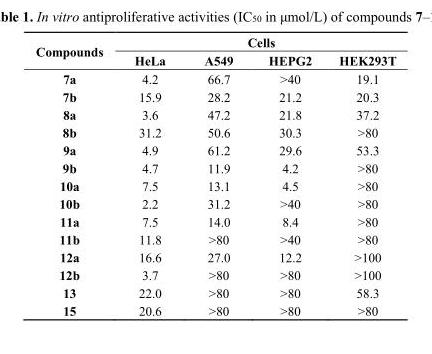table: (34, 34, 395, 317)
table column: (34, 34, 118, 317), (250, 34, 324, 317), (324, 34, 395, 317), (118, 34, 184, 317), (184, 34, 250, 317)
table column header: (34, 34, 395, 69)
table row: (34, 51, 395, 69), (34, 69, 395, 87), (34, 87, 395, 105), (34, 105, 395, 123), (34, 123, 395, 141), (34, 158, 395, 176), (34, 176, 395, 194), (34, 194, 395, 212), (34, 212, 395, 230), (34, 247, 395, 265), (34, 265, 395, 283), (34, 283, 395, 301), (34, 34, 395, 51), (34, 141, 395, 158), (34, 230, 395, 247), (34, 301, 395, 317)
table spanning cell: (118, 34, 395, 51), (34, 34, 118, 69)
